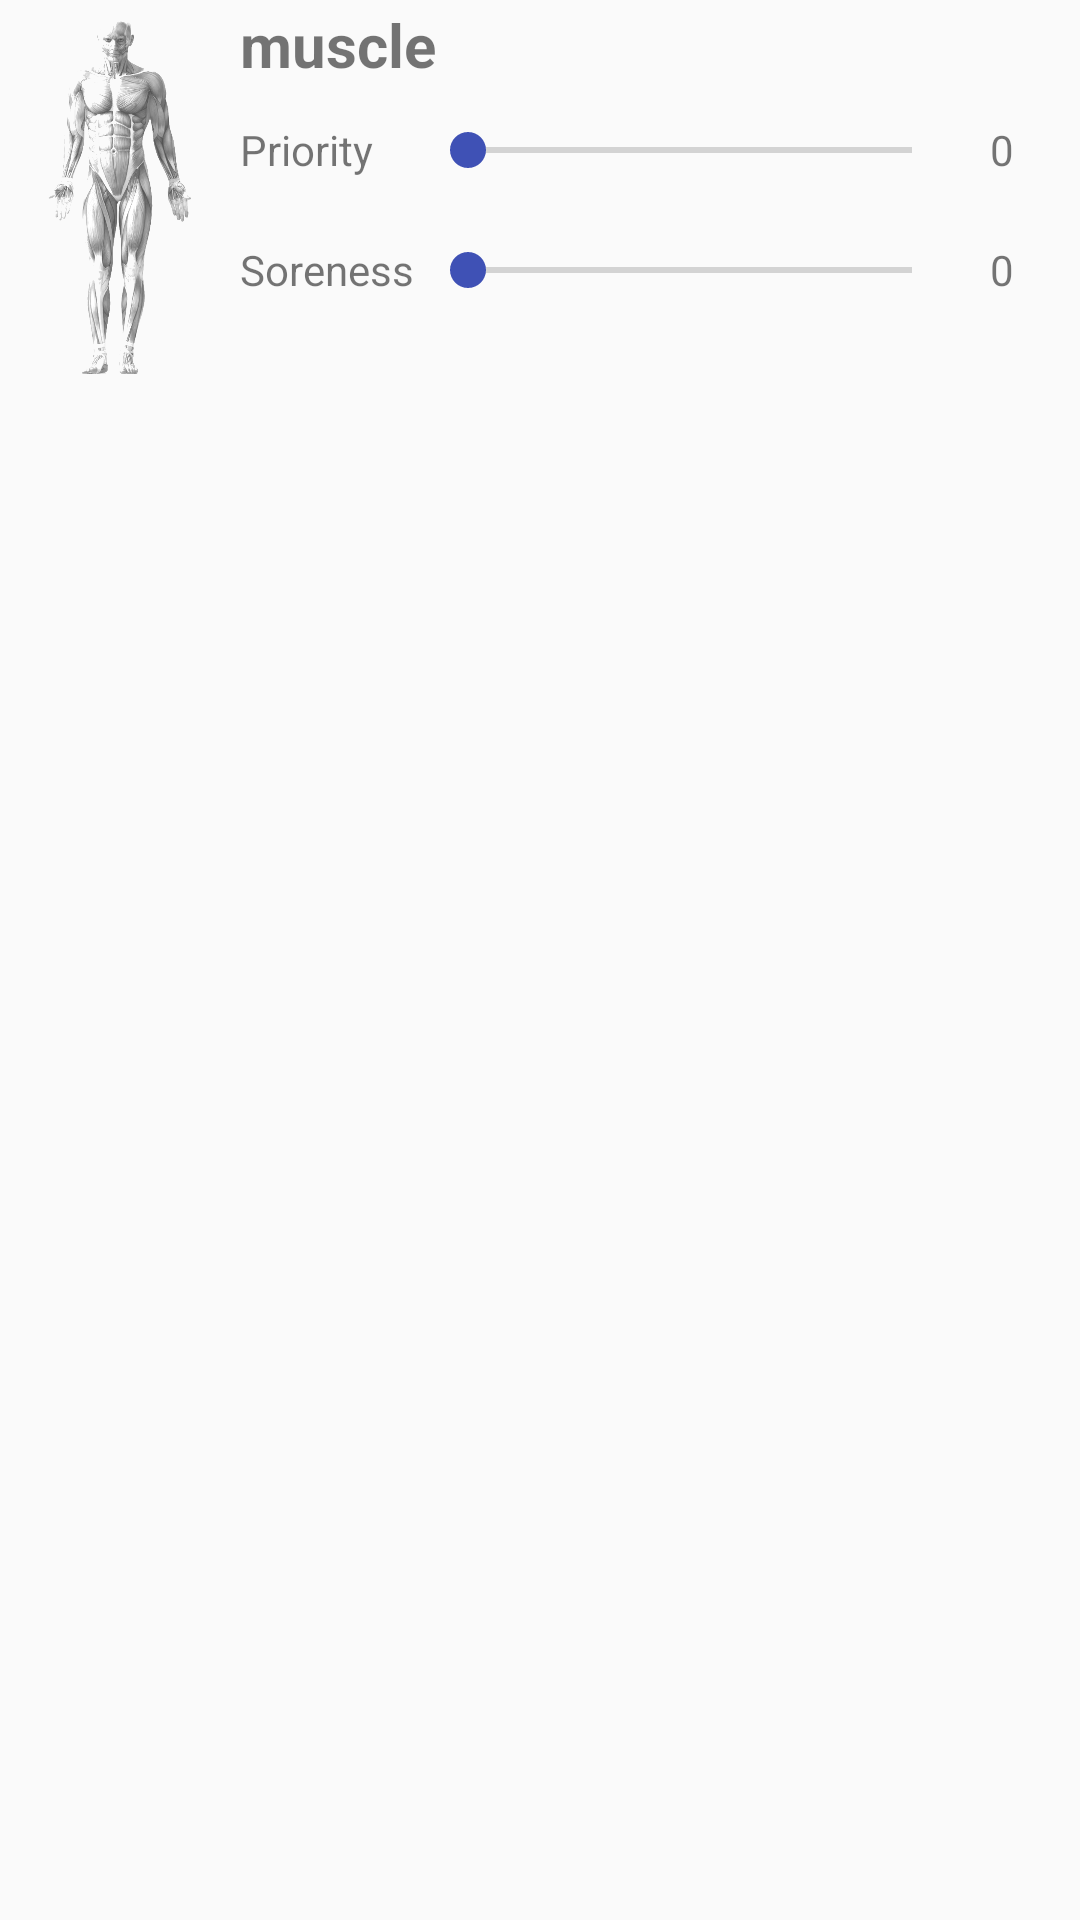

Point at icon controls on the screen. Image size 1080w x 1920h, points as point (x, y).
body: point (120, 198)
